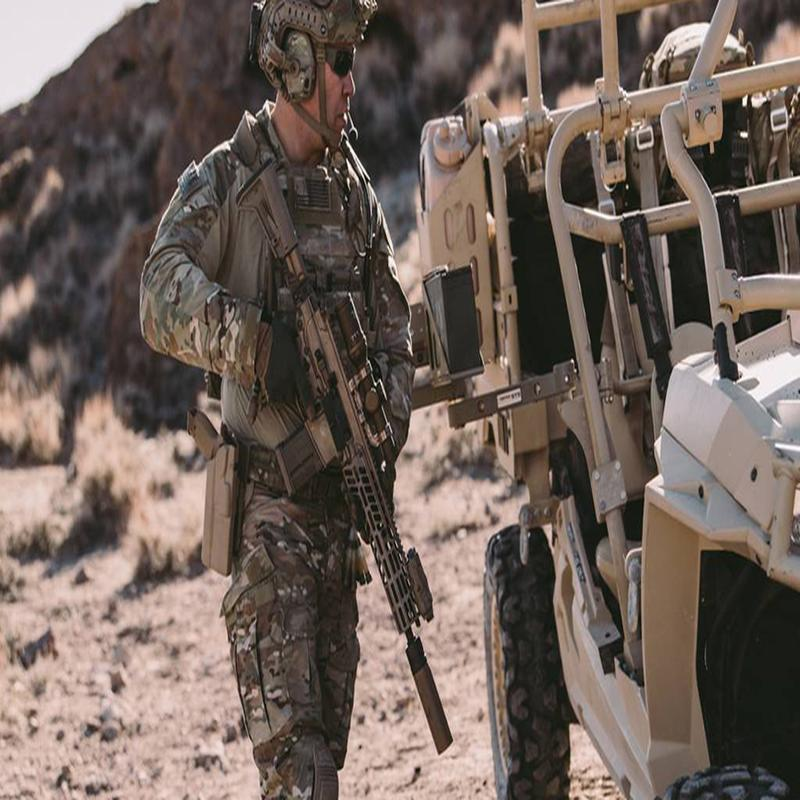GUN: (200, 129, 483, 768)
